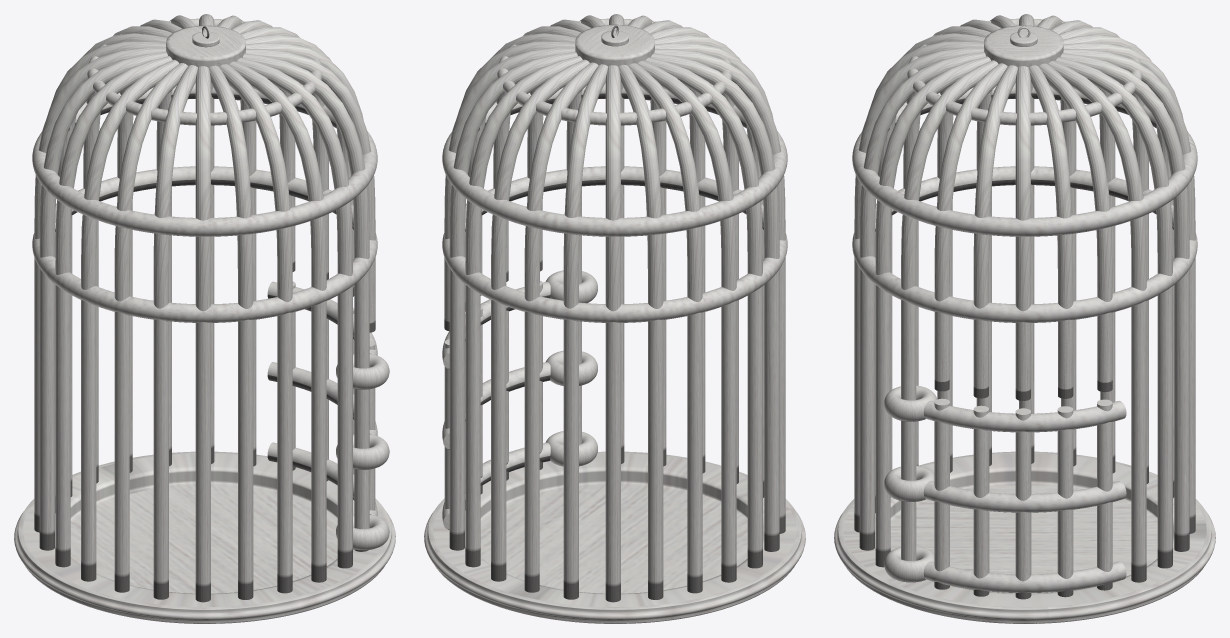
File: maya2sketchfab.fbx
3 views of the same model, side by side, from view 1: azimuth 30°, elevation 25°; view 2: azimuth 150°, elevation 25°; view 3: azimuth 270°, elevation 25° (orthographic).
Visible parts, largest first — view 1: pCylinder36; view 2: pCylinder36; view 3: pCylinder36.
Part boxes in pixels (x1,y1,x2,y2): pCylinder36: (14,14,395,623); pCylinder36: (424,14,805,623); pCylinder36: (834,14,1215,623).
Bounding box in the file's own units: 23.79 × 35.69 × 23.79.
1 material, 1 textured.
